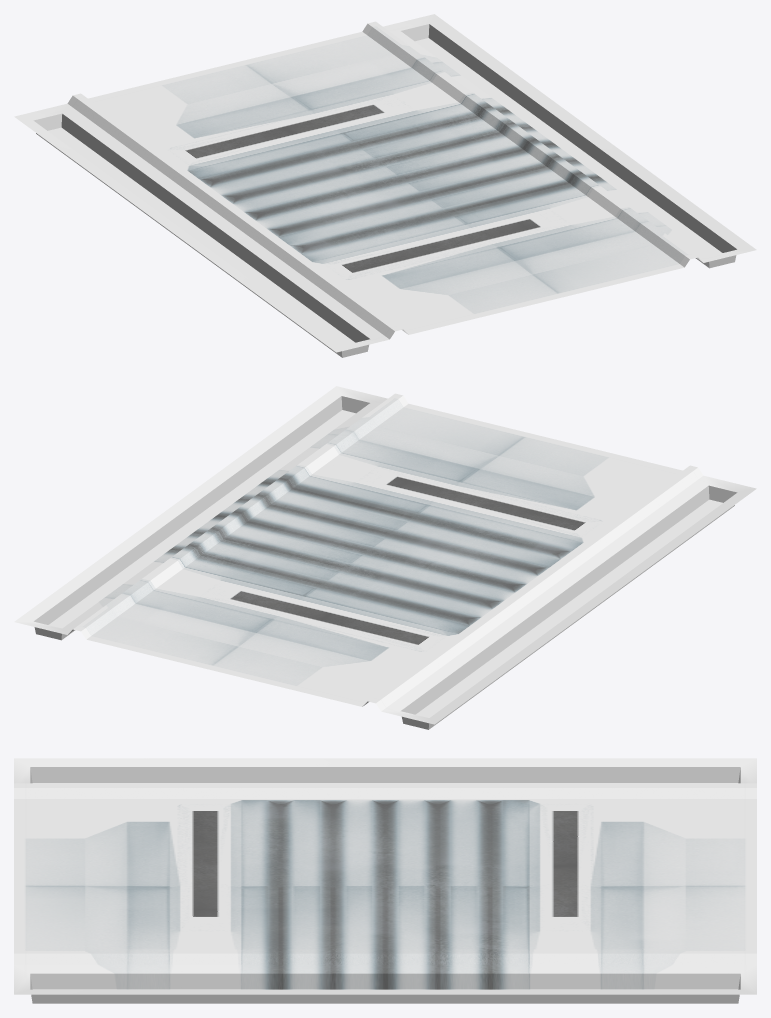
The model's file is floor.fbx.
3 renders of one model, top to bottom at view 1: azimuth 30°, elevation 25°; view 2: azimuth 150°, elevation 25°; view 3: azimuth 270°, elevation 25°, orthographic. The views are drawn at different scales.
Parts seen in each view (by area): view 1: floor_base1:floorbase; view 2: floor_base1:floorbase; view 3: floor_base1:floorbase.
Boxes of the visible parts, x1,y1,x2,y2 form: floor_base1:floorbase: [14, 14, 756, 357]; floor_base1:floorbase: [14, 386, 756, 729]; floor_base1:floorbase: [14, 758, 756, 1003].
Size of the model in its own units: 51.22 by 2.5 by 68.
